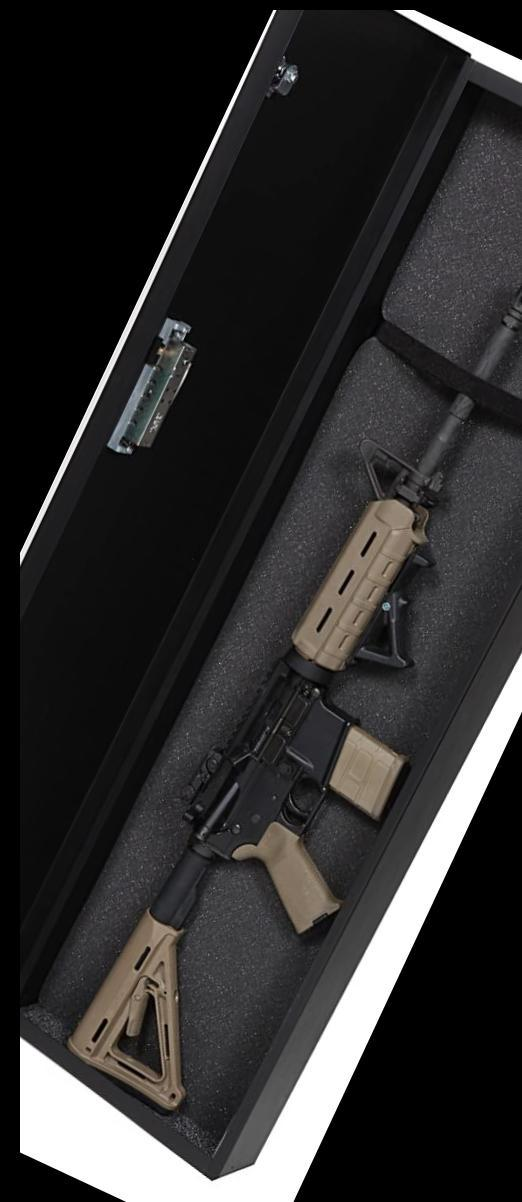larga: (63, 288, 522, 1110)
